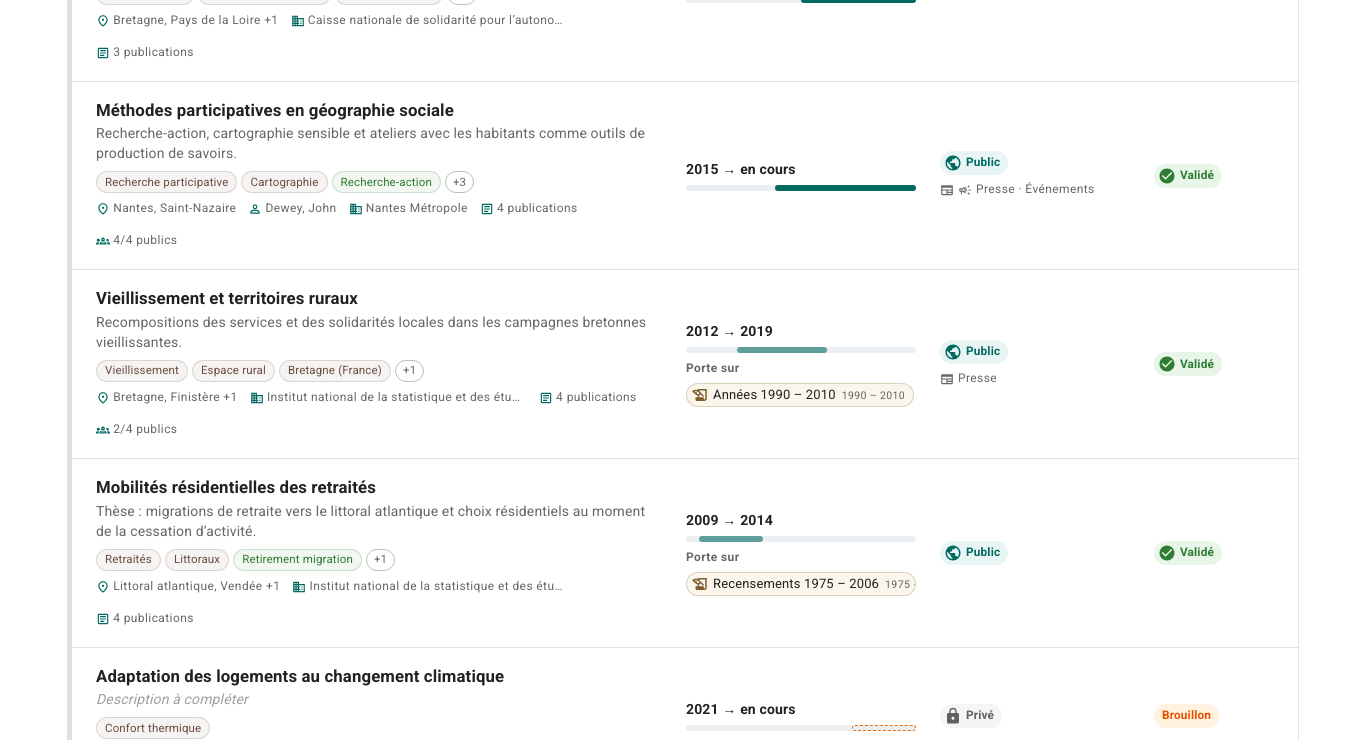
it: ExpertiseV2Page › propose les lieux, personnes et organisations en option normale de l’éditeur et permet d’ajouter un lieu
The width and height of the screenshot is (1366, 740).
(page scrolled)
Click the button with aria-label "Modifier le thème Vieillissement et territoires ruraux" at (683, 365), box [68,270,1298,459]
(page scrolled)
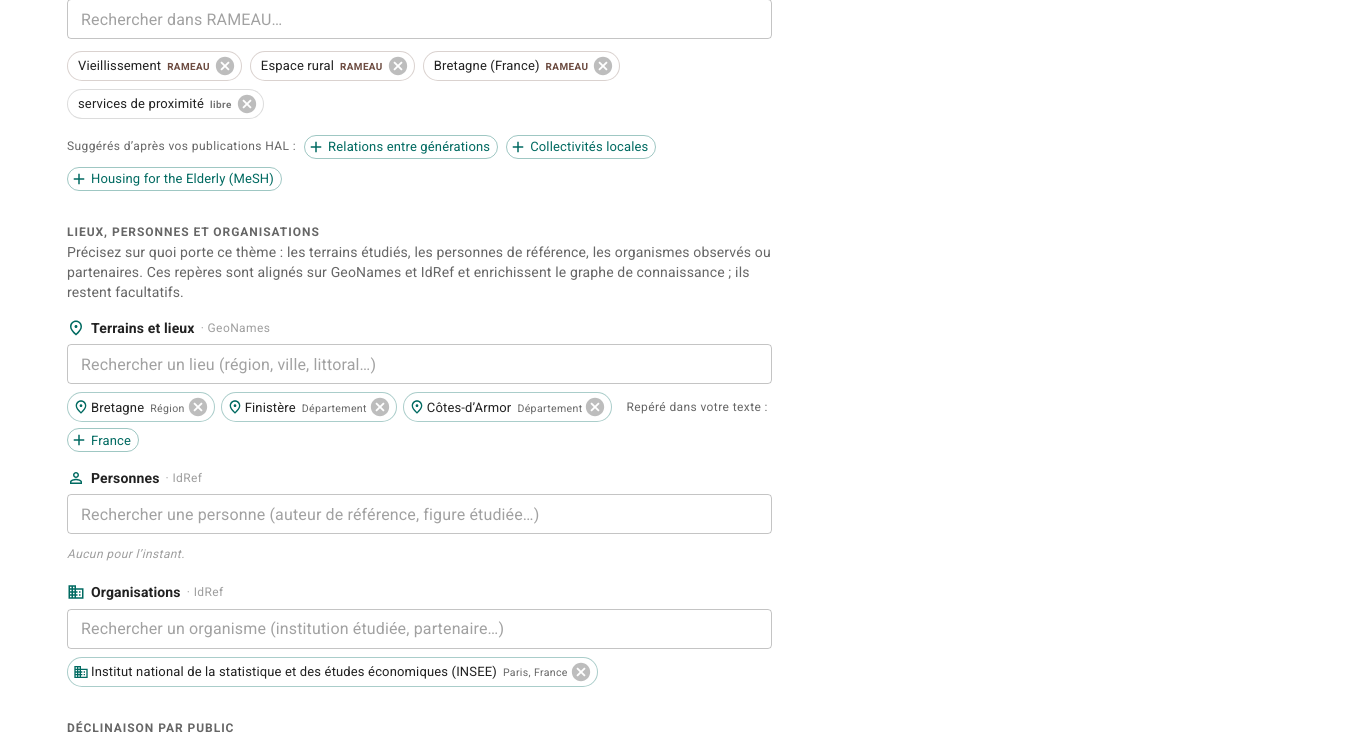
Result: the text "Lieux, personnes et organisations" is shown at [67,225,320,239]
Type "Morbi" into the dropdown named "Terrains et lieux" at (418, 364), box [73,350,763,378]
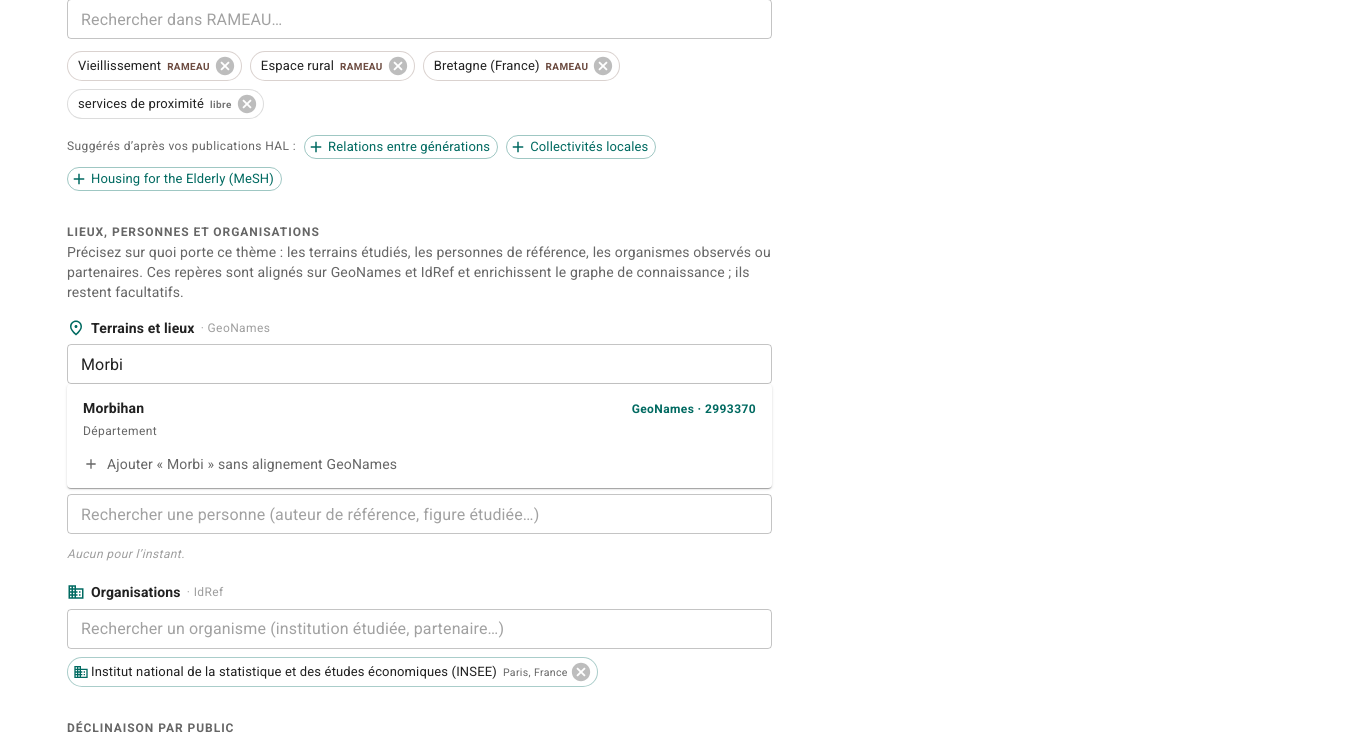
Click the text "Morbihan" at (114, 408), box [83,400,144,416]
(page scrolled)
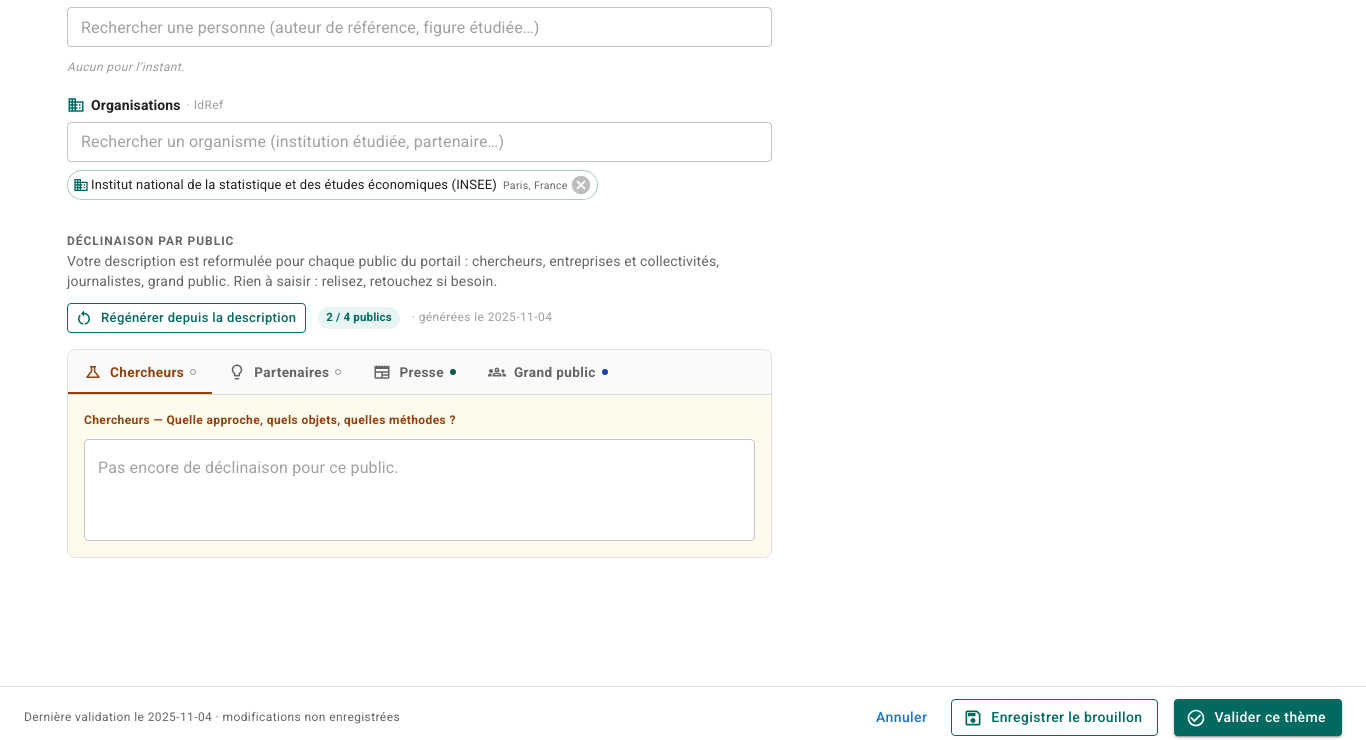
Click the button "Enregistrer le brouillon" at (1055, 718), box [951,699,1158,736]
(page scrolled)
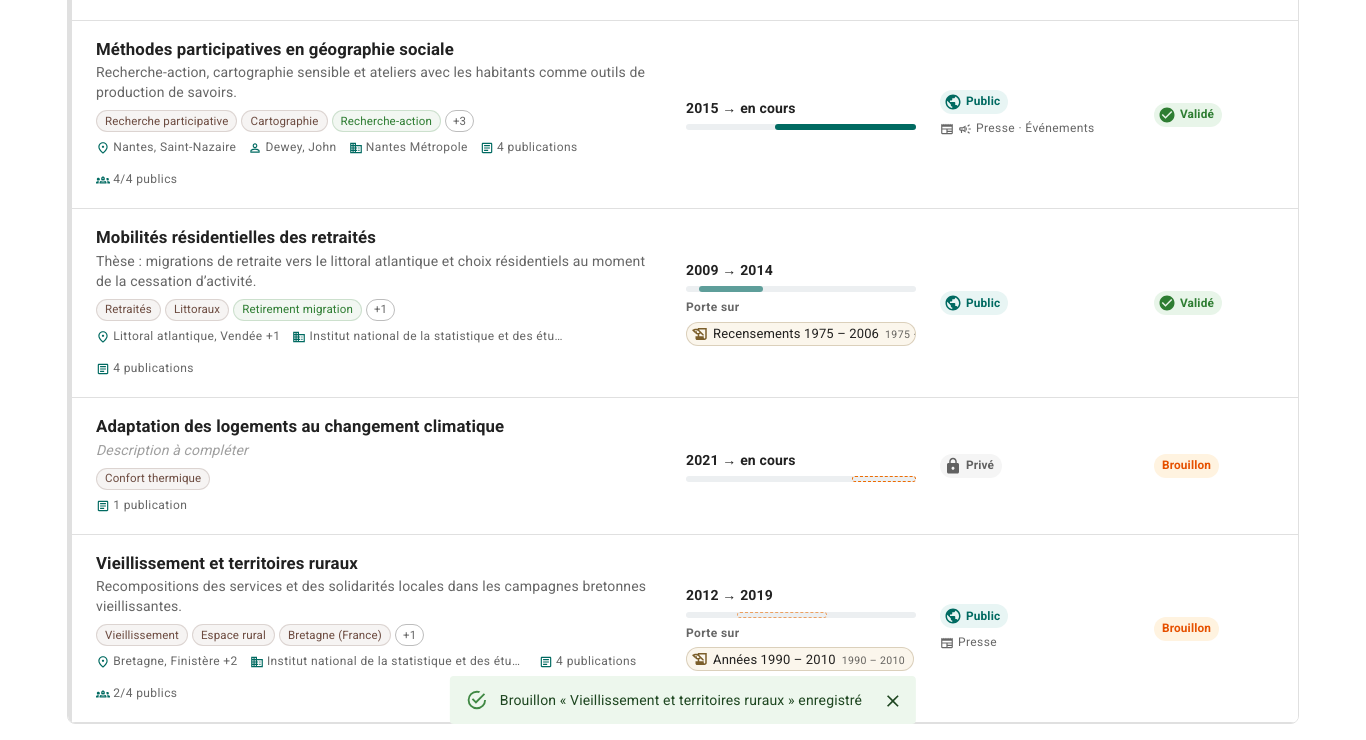
Result: the text "Bretagne, Finistère +2" is shown at [113,652,238,672]
